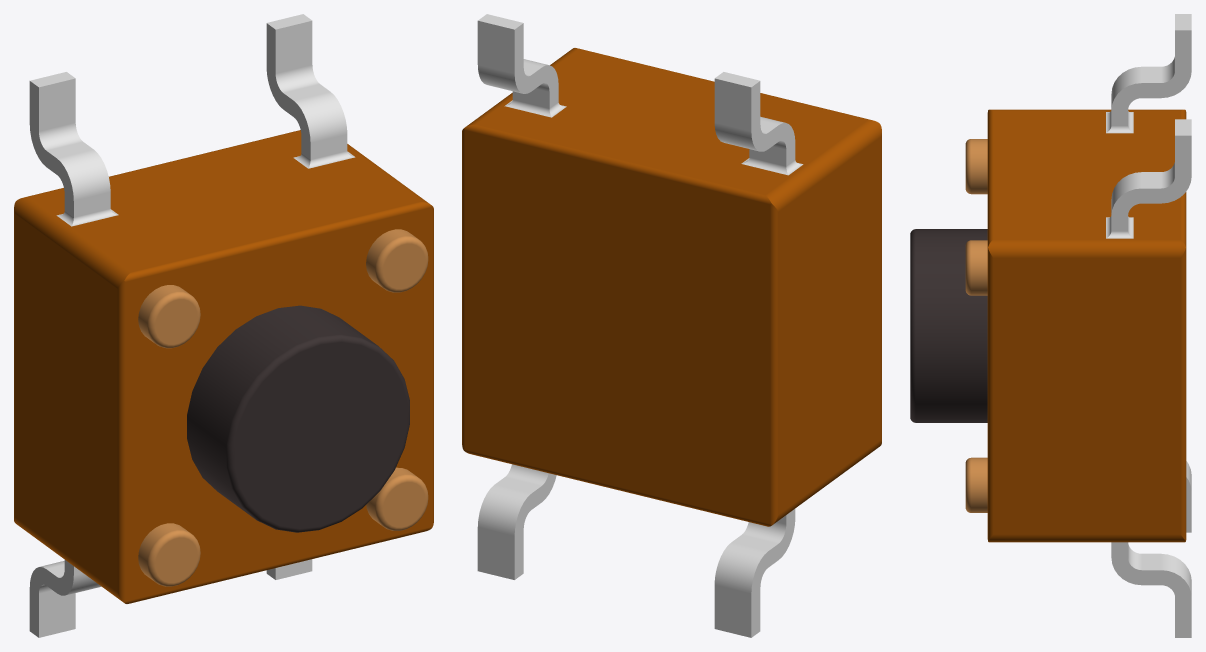
File: FSM4JSMA.glb
3 views of the same model, side by side, from view 1: azimuth 30°, elevation 25°; view 2: azimuth 150°, elevation 25°; view 3: azimuth 270°, elevation 25° (orthographic). The views are drawn at different scales.
Parts seen in each view (by area): view 1: te; view 2: te; view 3: te.
Boxes of the visible parts, box(x1,y1,x2,y2) form: te: box(14, 14, 433, 637); te: box(462, 14, 881, 637); te: box(910, 14, 1191, 637).
Size of the model in its own units: 0.006 by 0.01 by 0.00508.
